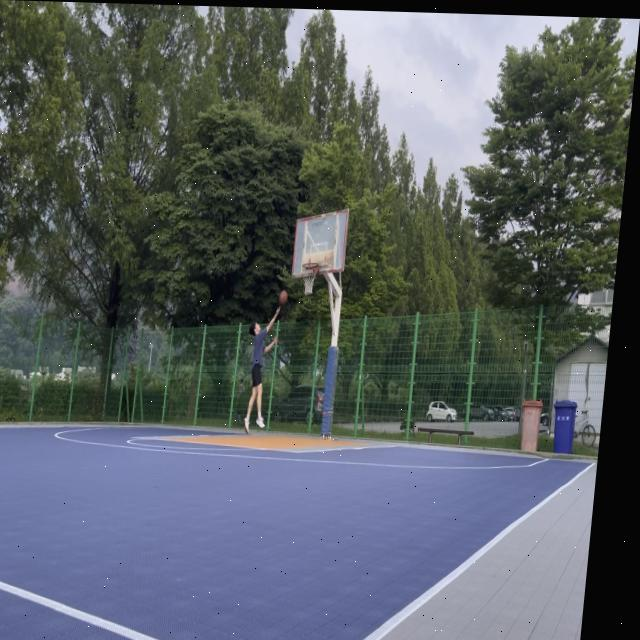basketball: (278, 289, 289, 306)
hoop: (299, 263, 319, 297)
